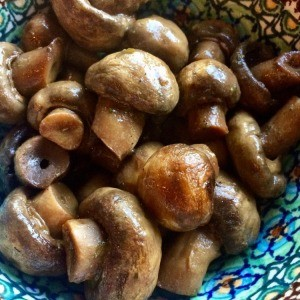mushroom_brain food: (50, 61, 235, 212)
